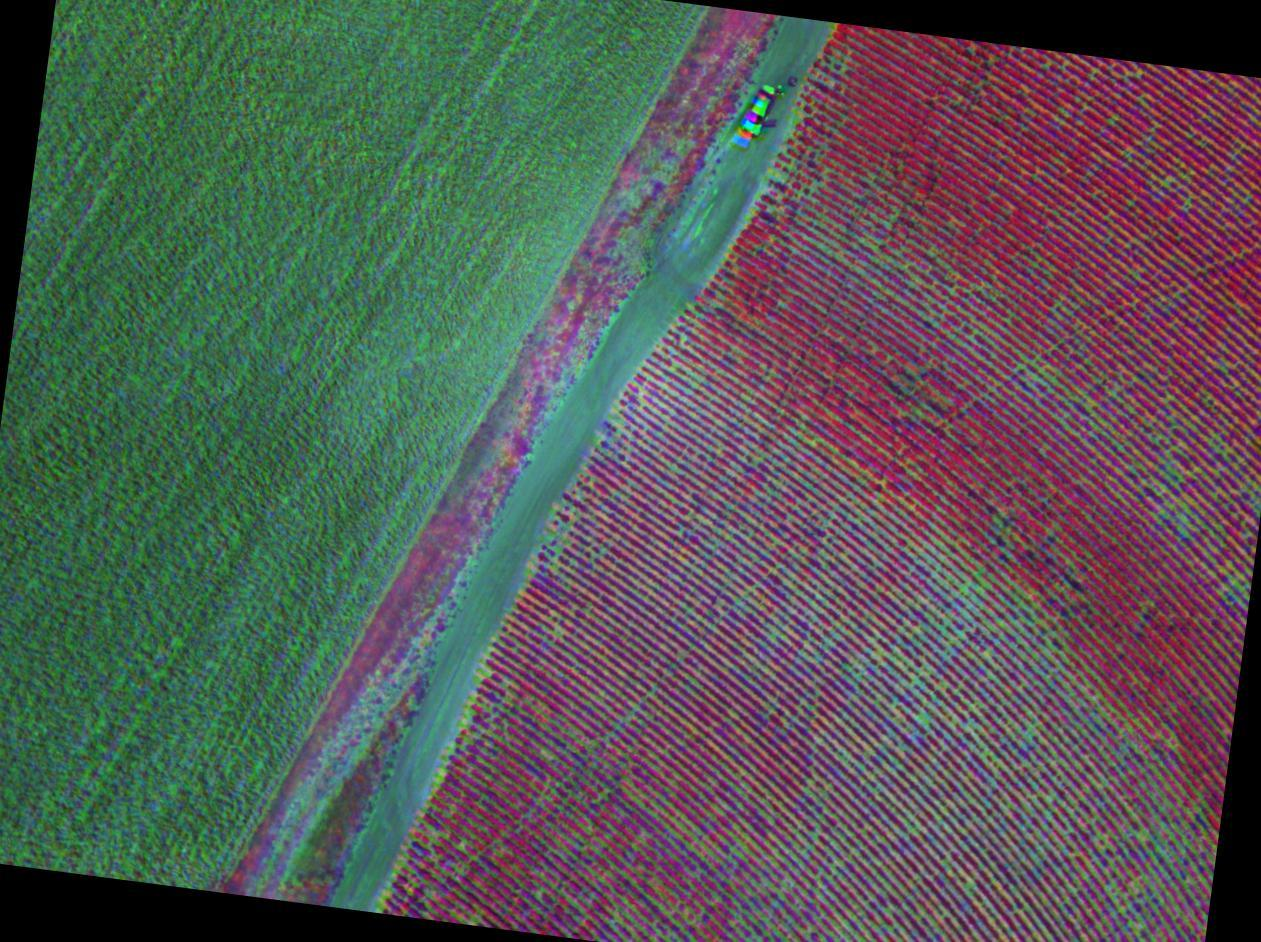dc: (921, 714, 926, 721), (983, 581, 987, 586), (773, 629, 778, 633), (874, 246, 878, 250), (824, 521, 828, 525), (1163, 182, 1166, 185)
